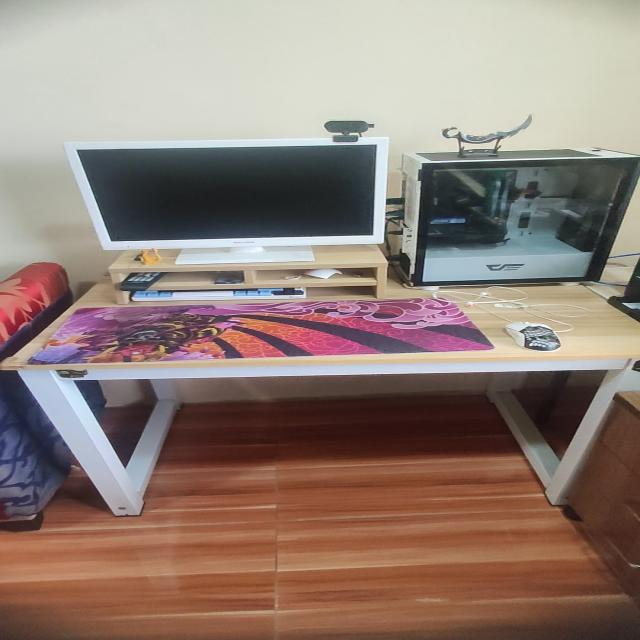table: (1, 267, 640, 515)
